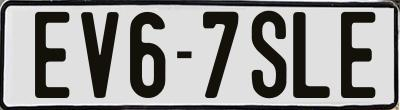6: (128, 9, 168, 100)
7: (202, 12, 243, 98)
E: (34, 11, 71, 100), (339, 12, 374, 101)
L: (292, 11, 333, 103)
S: (249, 8, 284, 101)
V: (80, 10, 122, 101)
